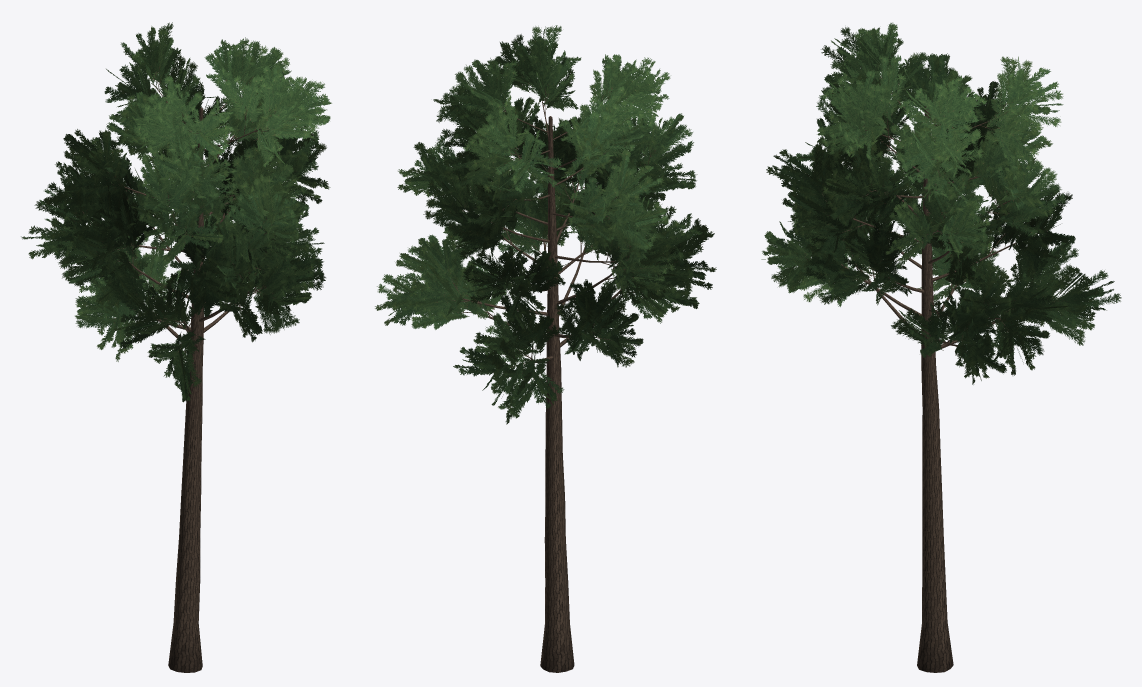
Rendered from radiata-pine.glb.
3 views of the same model, side by side, from view 1: azimuth 30°, elevation 25°; view 2: azimuth 150°, elevation 25°; view 3: azimuth 270°, elevation 25° (orthographic). The views are drawn at different scales.
Visible parts, largest first — view 1: radiata-pine; view 2: radiata-pine; view 3: radiata-pine.
Boxes of the visible parts, x1,y1,x2,y2 form: radiata-pine: [21, 22, 331, 672]; radiata-pine: [375, 25, 716, 672]; radiata-pine: [761, 22, 1121, 672].
Bounding box in the file's own units: 13.79 × 27.95 × 15.08.
Materials: 2 (2 with a texture image).
